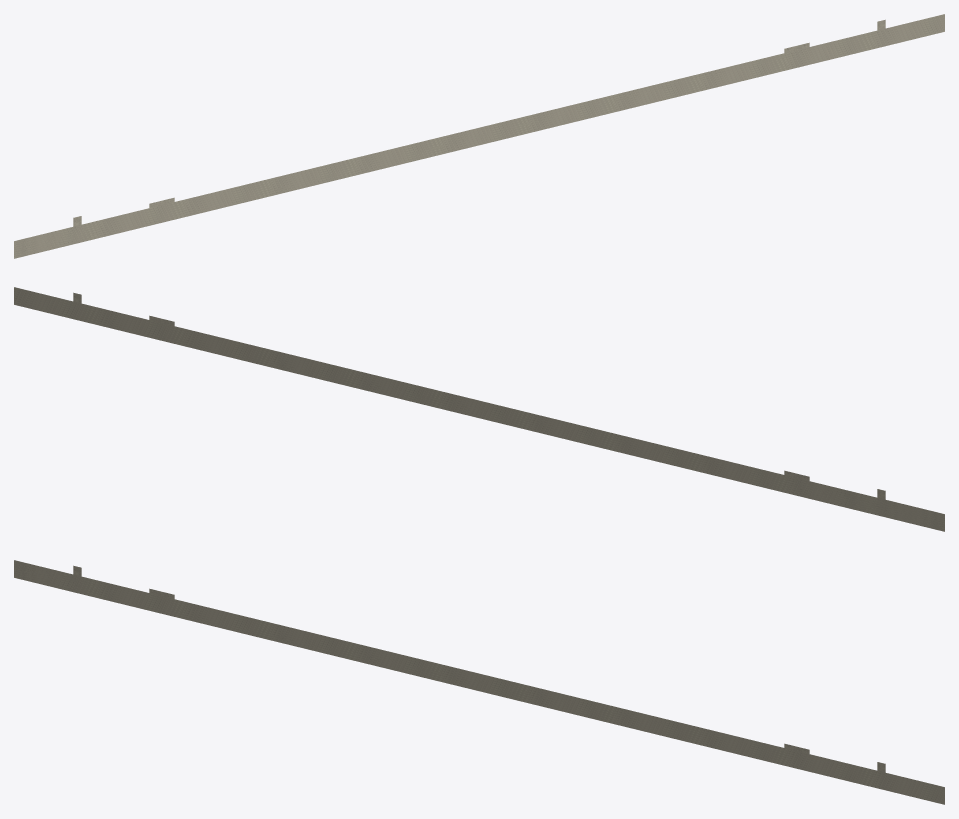
File: SuspBridgeBase-6L-40M-Cap.FBX
3 views of the same model, one above another, from view 1: azimuth 30°, elevation 25°; view 2: azimuth 150°, elevation 25°; view 3: azimuth 330°, elevation 25° (orthographic).
Visible parts, largest first — view 1: SuspBridgeBase-6L-40M-Cap; view 2: SuspBridgeBase-6L-40M-Cap; view 3: SuspBridgeBase-6L-40M-Cap.
Part boxes in pixels (x1=…): SuspBridgeBase-6L-40M-Cap: x1=14, y1=14, x2=944, y2=258; SuspBridgeBase-6L-40M-Cap: x1=14, y1=287, x2=944, y2=531; SuspBridgeBase-6L-40M-Cap: x1=14, y1=560, x2=944, y2=804.
Bounding box in the file's own units: 55 × 1.5 × 1.15e-05.
